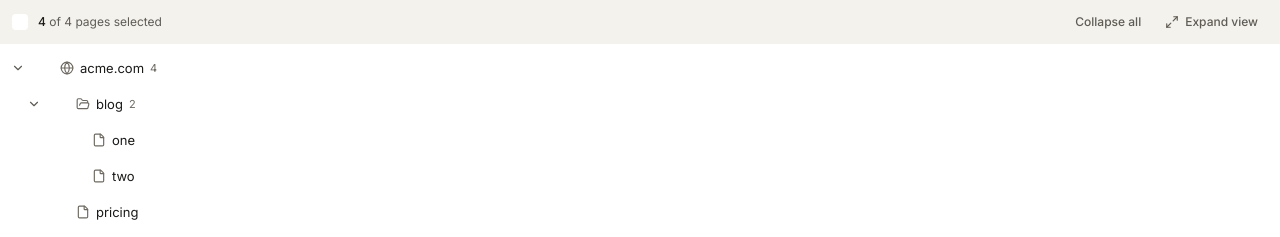
Test: CrawlPageTree › collapses a section without changing what is selected
Click the button named "collapse blog" at x=34, y=104, box [20, 90, 48, 118]
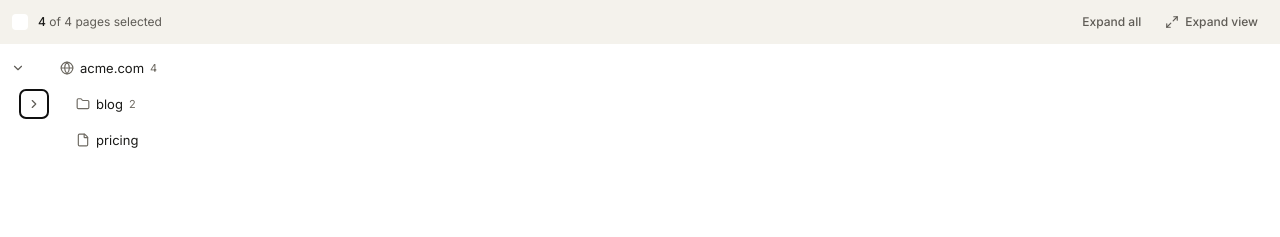
Expected: the text "one" is gone
